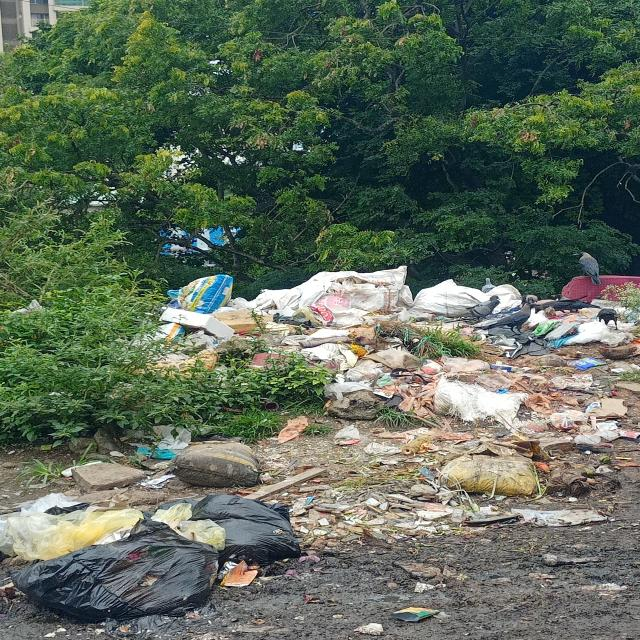garbage: (163, 270, 640, 417), (7, 441, 306, 617), (326, 419, 640, 532)
